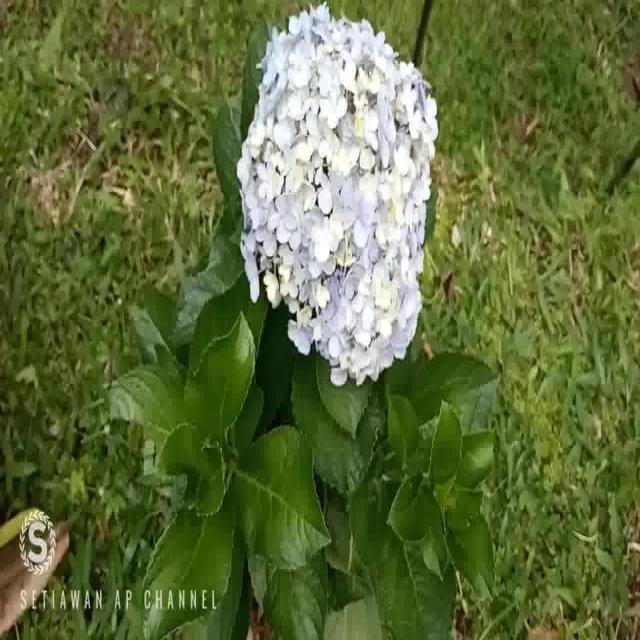Flower: (237, 10, 430, 389)
